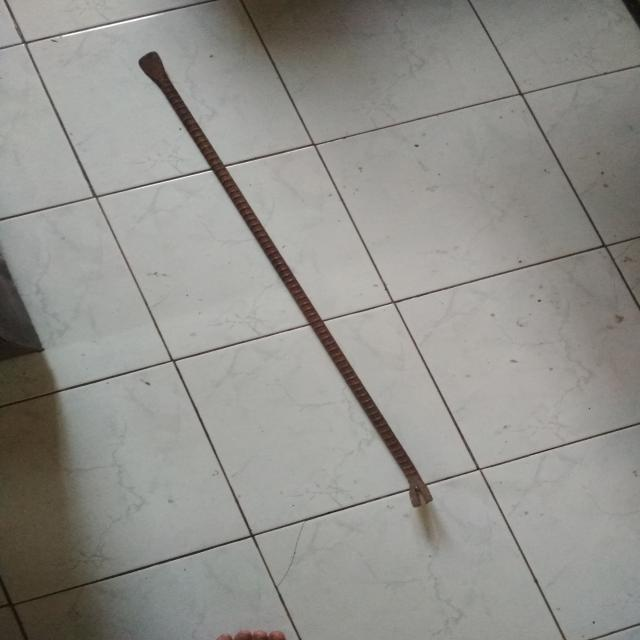Linggis: (134, 50, 436, 510)
